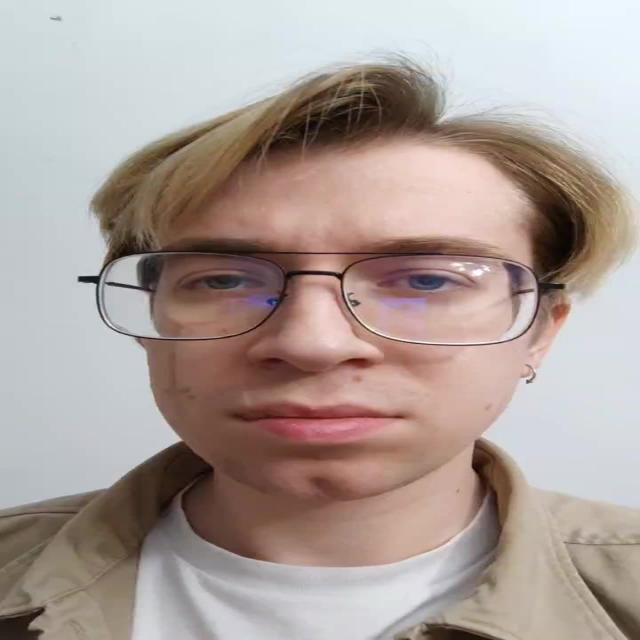earlobe: (519, 298, 573, 378)
